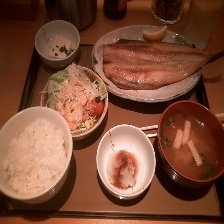rice: (0, 116, 69, 198)
